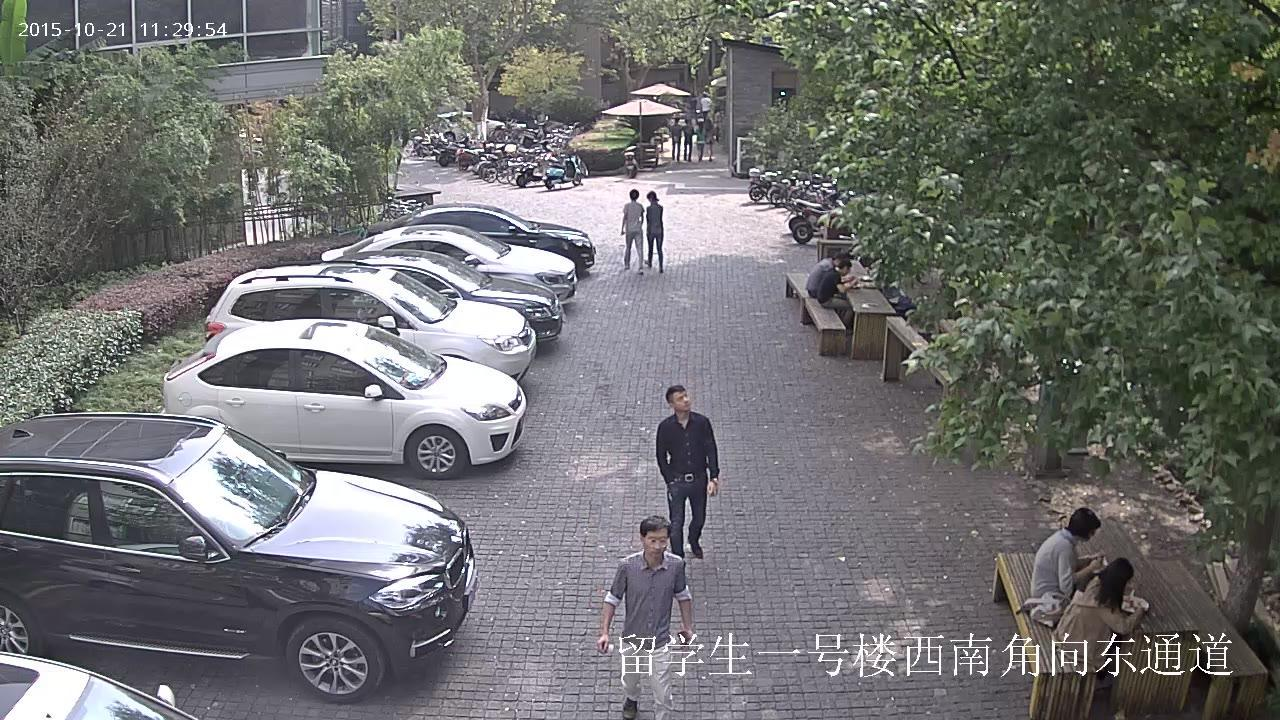person: (598, 515, 694, 720), (1050, 557, 1145, 691), (655, 385, 720, 560), (1029, 506, 1104, 602), (816, 259, 858, 334), (621, 188, 644, 274), (806, 252, 847, 298), (645, 190, 663, 272), (682, 119, 694, 161), (704, 118, 714, 161), (671, 119, 681, 161), (696, 121, 705, 161)
